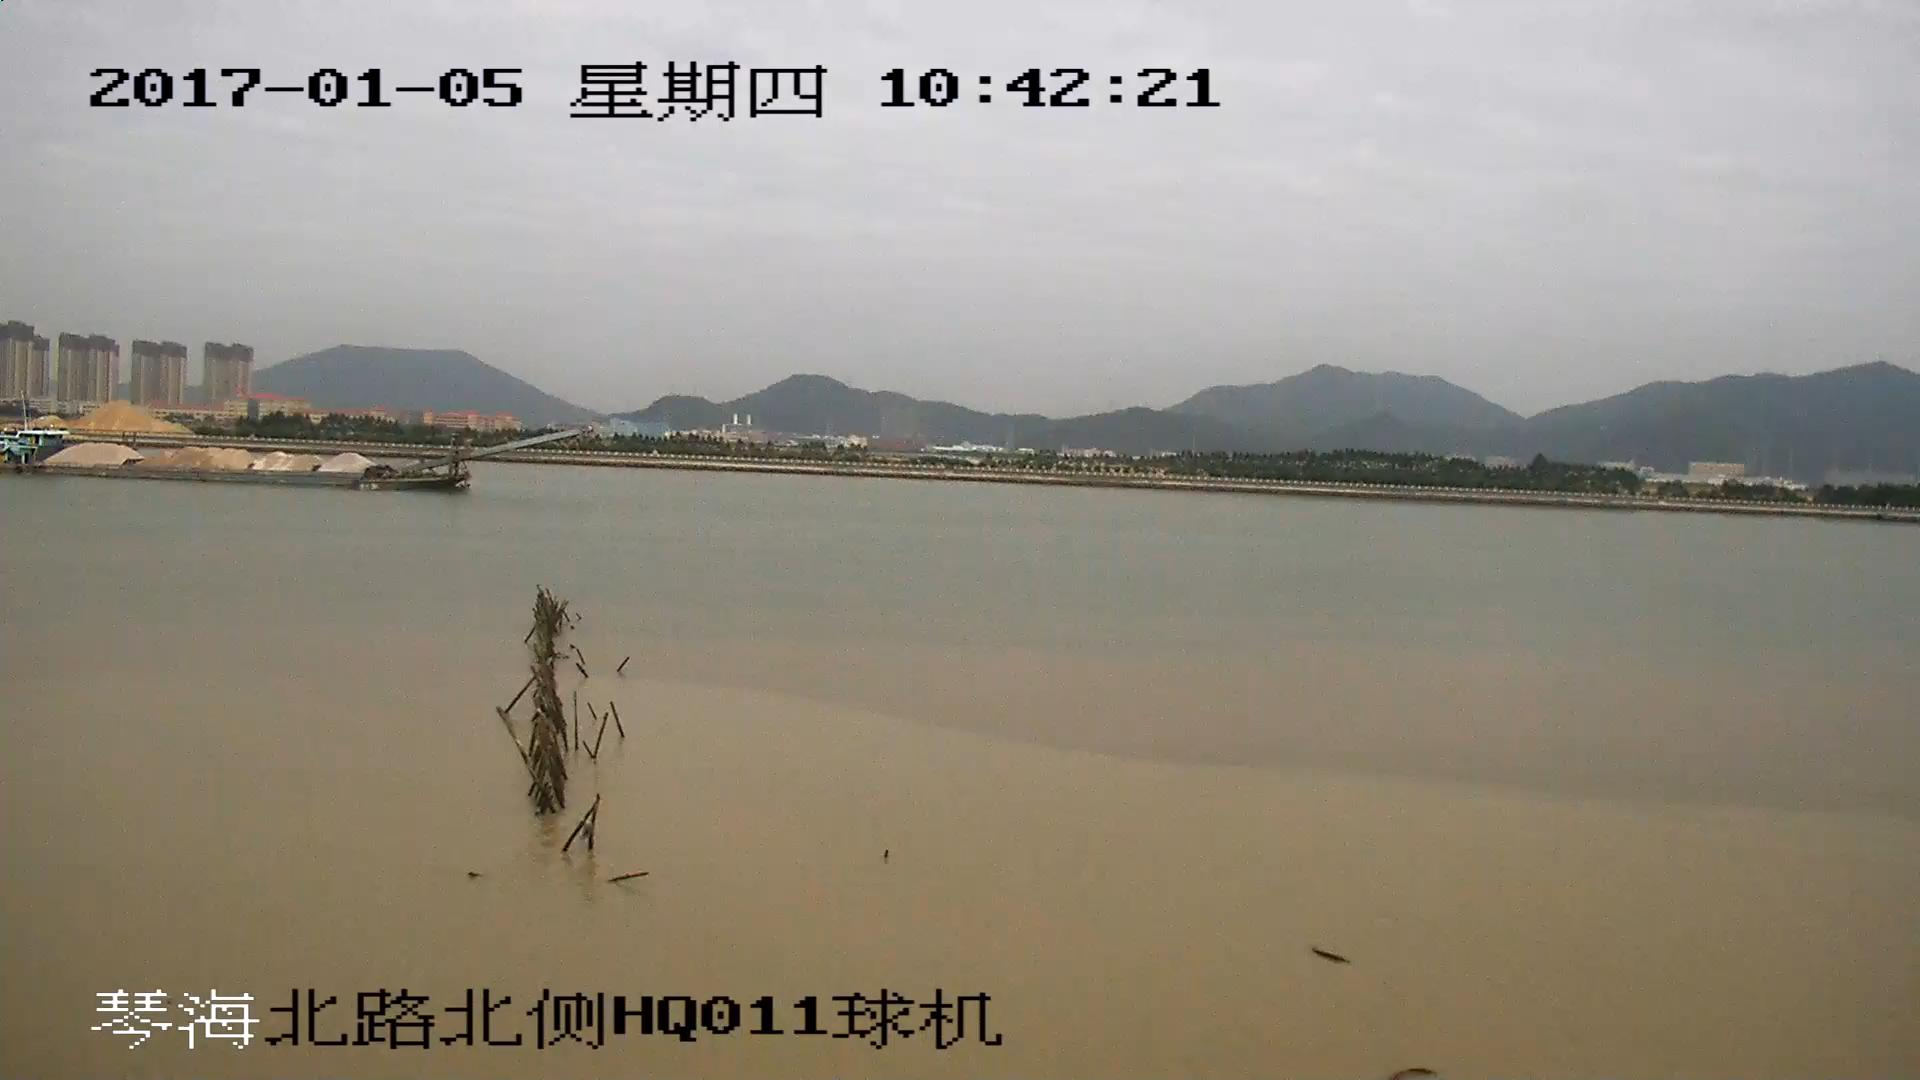ore carrier: (1, 430, 578, 487)
